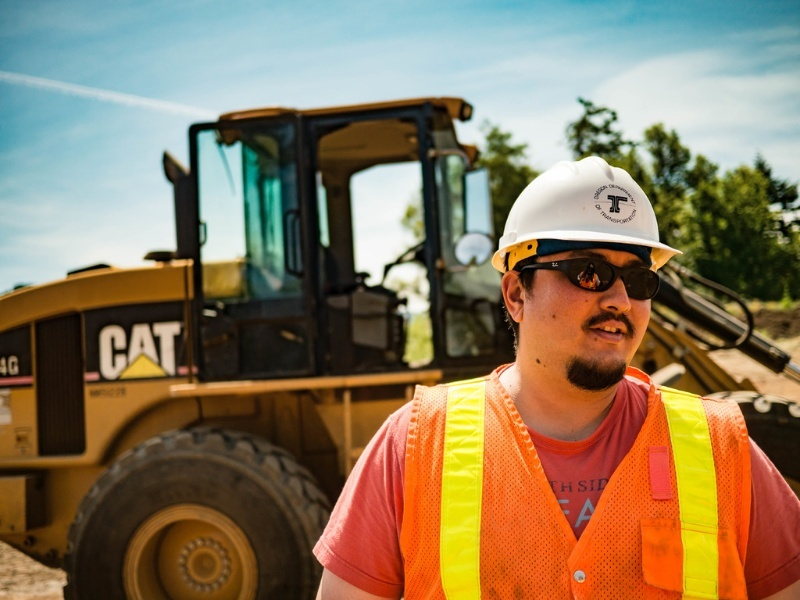baret: (495, 156, 685, 285)
